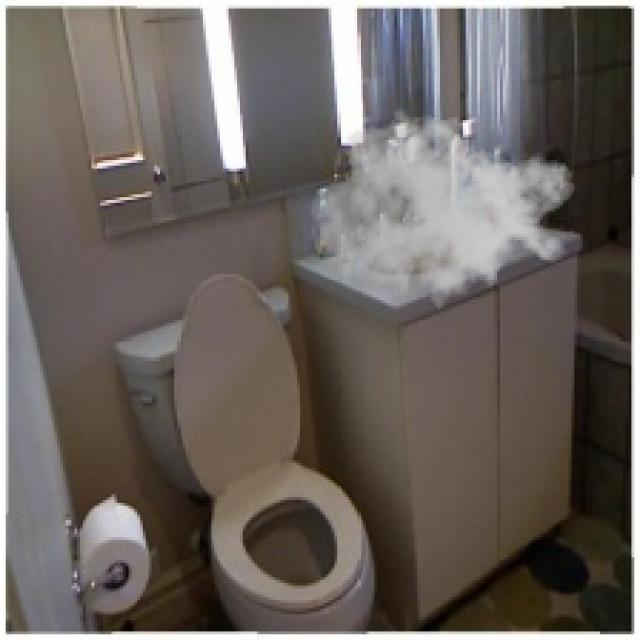smoke: (309, 103, 577, 320)
